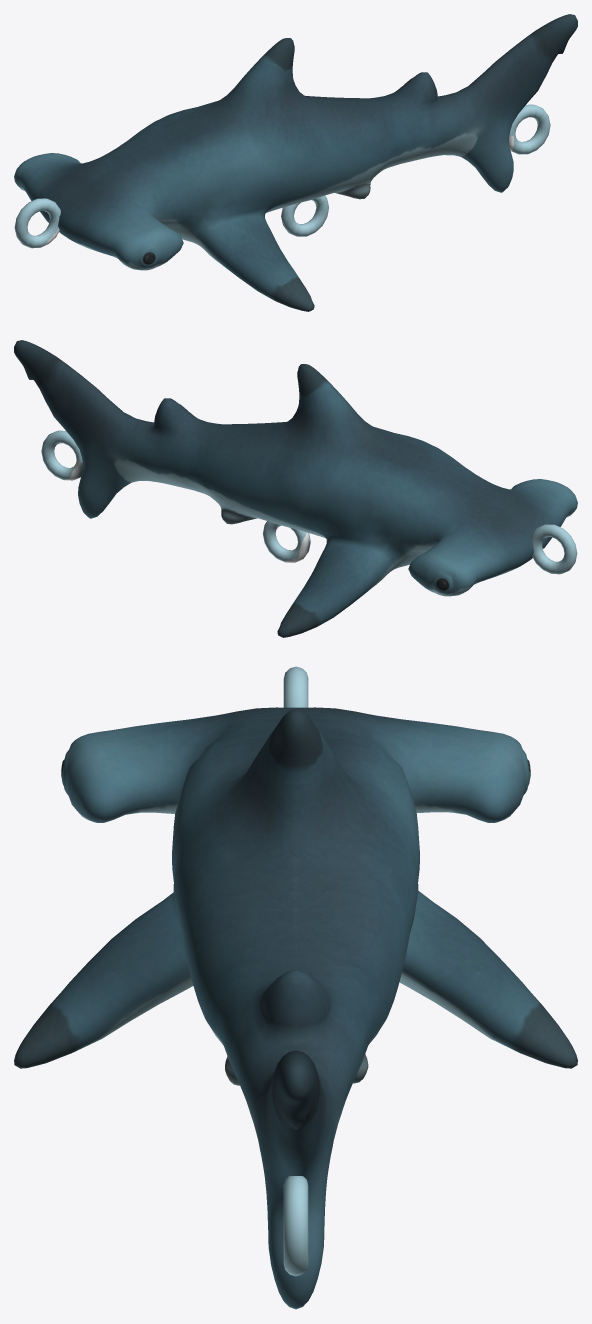
Rendered from pelucheTiburon.obj.
3 renders of one model, top to bottom at view 1: azimuth 30°, elevation 25°; view 2: azimuth 150°, elevation 25°; view 3: azimuth 270°, elevation 25°, orthographic. The views are drawn at different scales.
Parts seen in each view (by area): view 1: pelucheTiburon2:_Hammerhead_Shark_v1; view 2: pelucheTiburon2:_Hammerhead_Shark_v1; view 3: pelucheTiburon2:_Hammerhead_Shark_v1.
Part boxes in pixels (x1,y1,x2,y2): pelucheTiburon2:_Hammerhead_Shark_v1: (14, 14, 577, 311); pelucheTiburon2:_Hammerhead_Shark_v1: (14, 340, 577, 637); pelucheTiburon2:_Hammerhead_Shark_v1: (14, 666, 577, 1309).
Bounding box in the file's own units: 9.17 × 3.26 × 4.14.
Materials: 1 (1 with a texture image).
